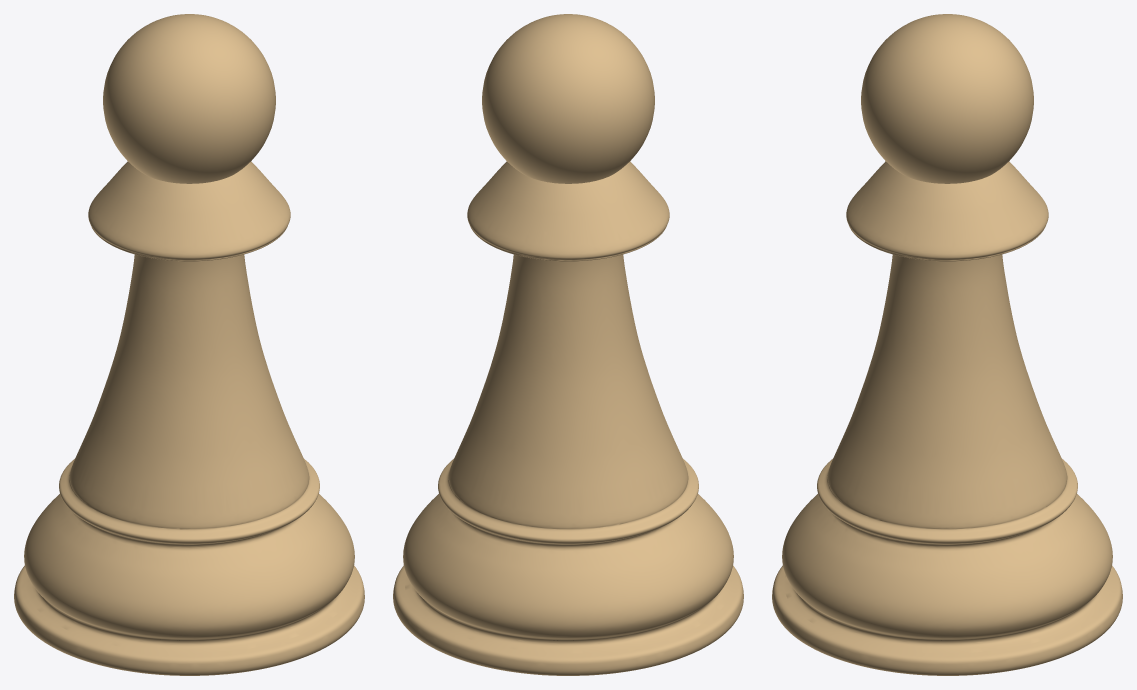
Rendered from pawn.glb.
3 renders of one model, left to right at view 1: azimuth 30°, elevation 25°; view 2: azimuth 150°, elevation 25°; view 3: azimuth 270°, elevation 25°, orthographic.
Parts seen in each view (by area): view 1: Pawn.002; view 2: Pawn.002; view 3: Pawn.002.
Boxes of the visible parts, x1,y1,x2,y2 form: Pawn.002: (14, 14, 364, 675); Pawn.002: (393, 14, 743, 675); Pawn.002: (772, 14, 1122, 675).
Bounding box in the file's own units: 0.0302 × 0.056 × 0.0302.
